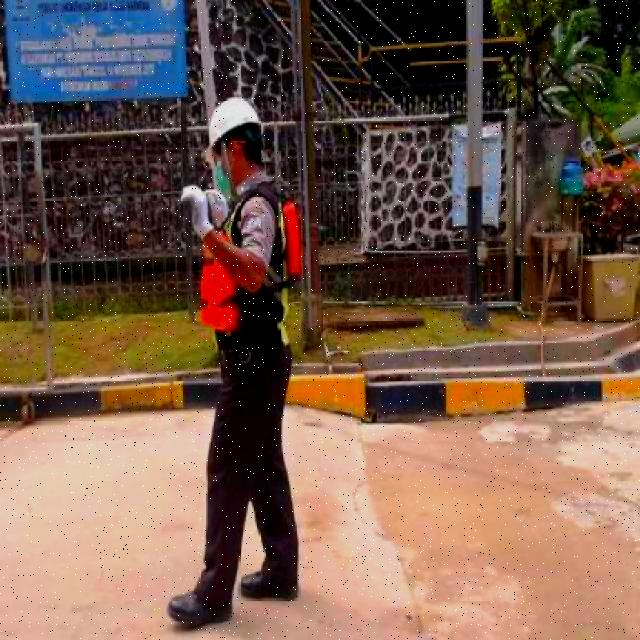Boots: (166, 586, 237, 628), (238, 568, 300, 604)
Gloves: (177, 184, 211, 240), (204, 186, 228, 226)
Helmet: (200, 98, 265, 150)
Mask: (192, 202, 311, 333)
